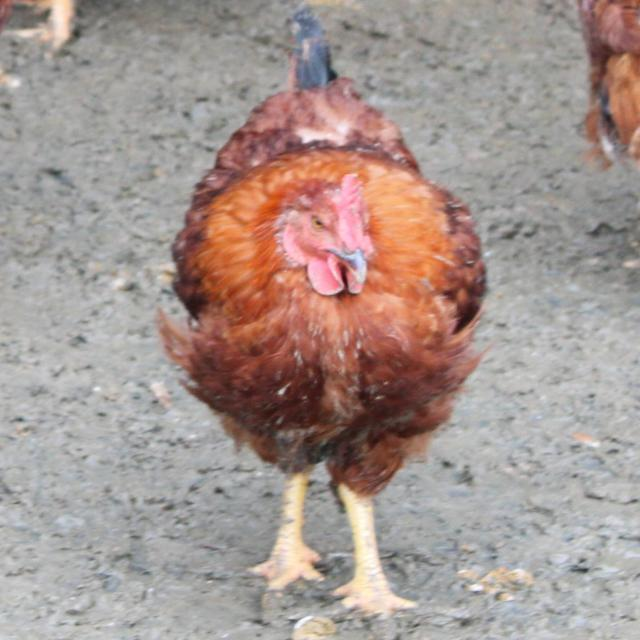cook: (93, 0, 556, 627)
